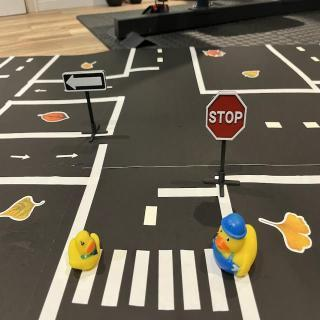duck_regular: (69, 230, 103, 273)
duck_specialty: (214, 214, 259, 280)
road_crosswalk: (69, 245, 233, 316)
road_oneway: (8, 152, 35, 162), (55, 151, 81, 161), (34, 86, 49, 96)
sign_oneway_left: (63, 71, 107, 94)
sign_stop: (206, 96, 248, 143)
